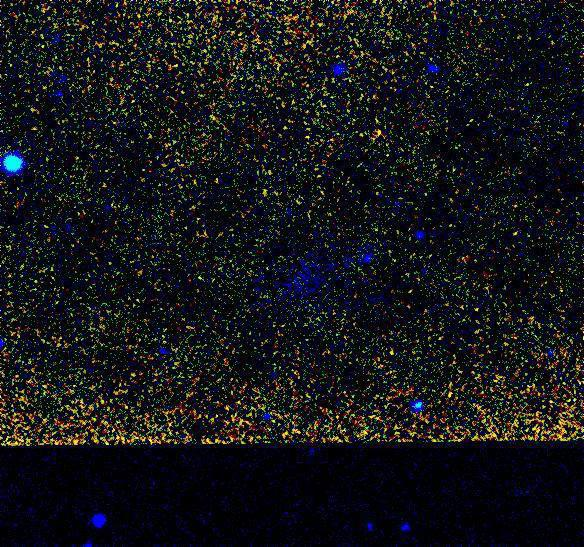star: (360, 115, 390, 145)
